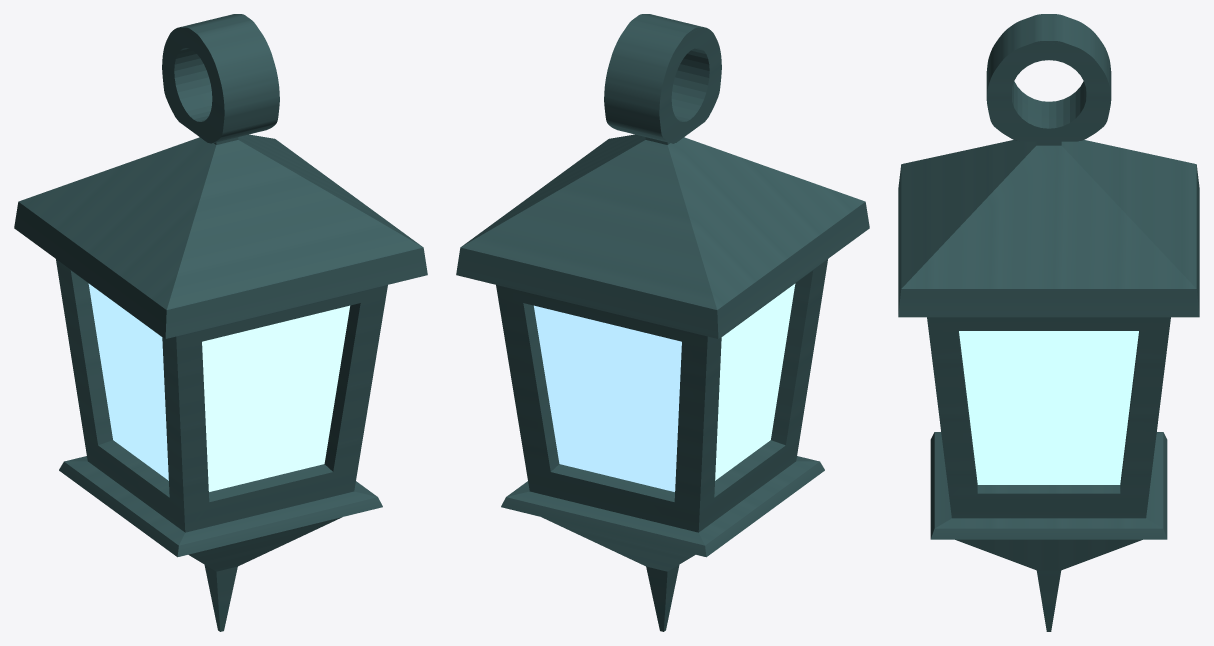
The model's file is item.light.storm_lantern.glb.
3 views of the same model, side by side, from view 1: azimuth 30°, elevation 25°; view 2: azimuth 150°, elevation 25°; view 3: azimuth 270°, elevation 25° (orthographic).
Visible parts, largest first — view 1: StreetLantern; view 2: StreetLantern; view 3: StreetLantern.
Boxes of the visible parts, <box> form: StreetLantern: <box>14,14,427,631</box>; StreetLantern: <box>456,14,869,631</box>; StreetLantern: <box>898,14,1199,631</box>.
Bounding box in the file's own units: 0.5434 × 1.2 × 0.5434.
Materials: 1 (1 with a texture image).
